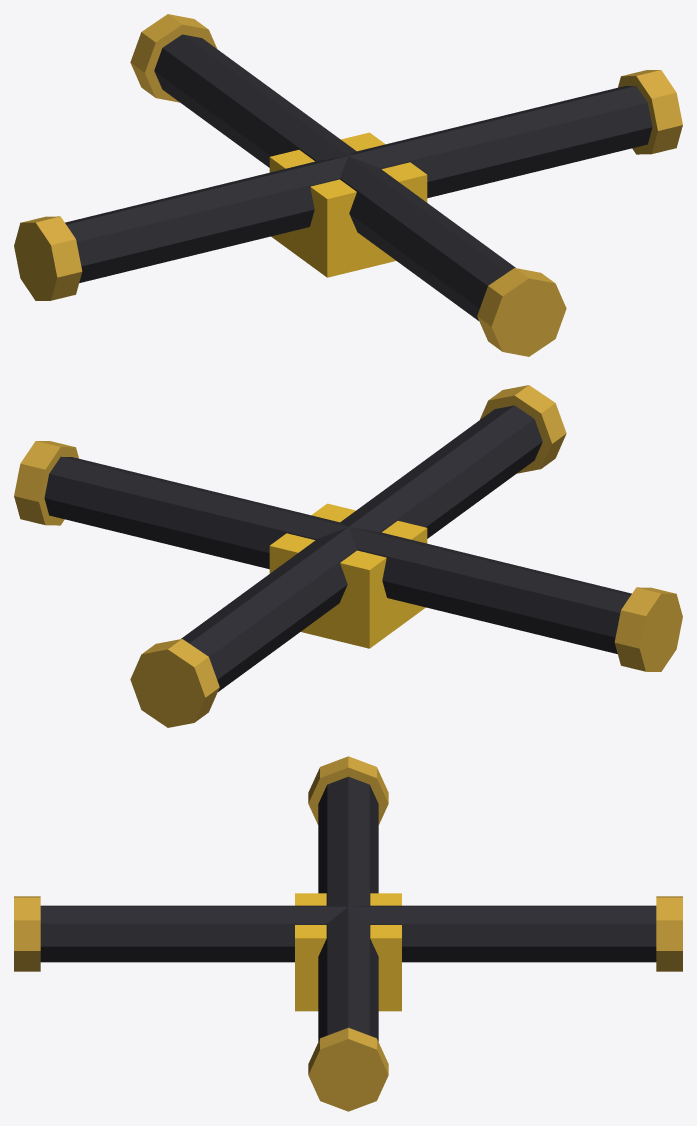
Rendered from cable-cross.glb.
3 views of the same model, one above another, from view 1: azimuth 30°, elevation 25°; view 2: azimuth 150°, elevation 25°; view 3: azimuth 270°, elevation 25° (orthographic). The views are drawn at different scales.
Visible parts, largest first — view 1: cable-cross; view 2: cable-cross; view 3: cable-cross.
Part boxes in pixels (left/top/right/bottom): cable-cross: left=14, top=14, right=682, bottom=356; cable-cross: left=14, top=385, right=682, bottom=727; cable-cross: left=14, top=756, right=682, bottom=1111.
Bounding box in the file's own units: 1 × 0.15 × 1.
Materials: 1 (1 with a texture image).
